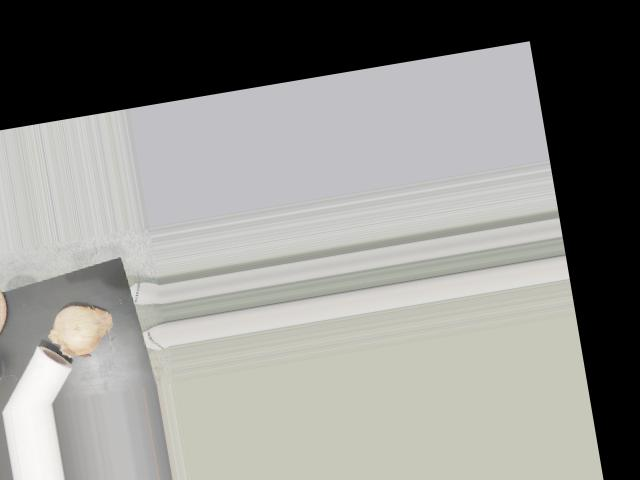onion: (44, 297, 113, 356)
